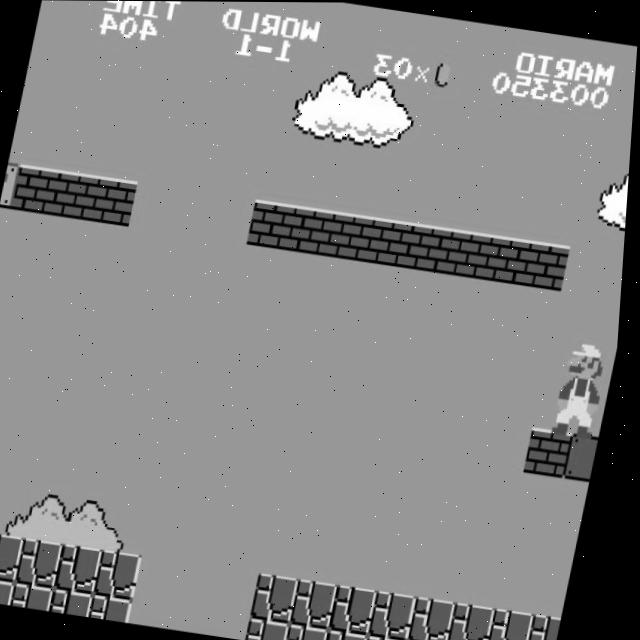1- brick_block: (406, 222, 456, 273), (52, 170, 102, 221), (524, 240, 574, 290), (485, 234, 535, 284), (446, 228, 496, 278), (367, 217, 417, 267), (328, 211, 378, 261), (249, 200, 299, 250), (92, 176, 142, 226), (13, 165, 63, 215), (529, 426, 578, 477), (289, 205, 338, 256)
13- mystery_block: (2, 163, 23, 209)
17- undestructible_block: (297, 578, 347, 630), (336, 584, 386, 635), (258, 573, 308, 624), (61, 544, 111, 595), (22, 538, 72, 589), (101, 549, 150, 601), (376, 590, 426, 640), (415, 596, 465, 640), (454, 601, 504, 640), (0, 532, 32, 583), (494, 607, 543, 640), (96, 595, 142, 623), (57, 589, 102, 617), (18, 583, 63, 611), (253, 618, 299, 640), (534, 613, 570, 640), (293, 623, 338, 640), (0, 577, 24, 605), (332, 629, 377, 640), (372, 634, 417, 640)
3- empty_block: (568, 432, 605, 481)
4- fire_mario: (557, 339, 618, 438)
